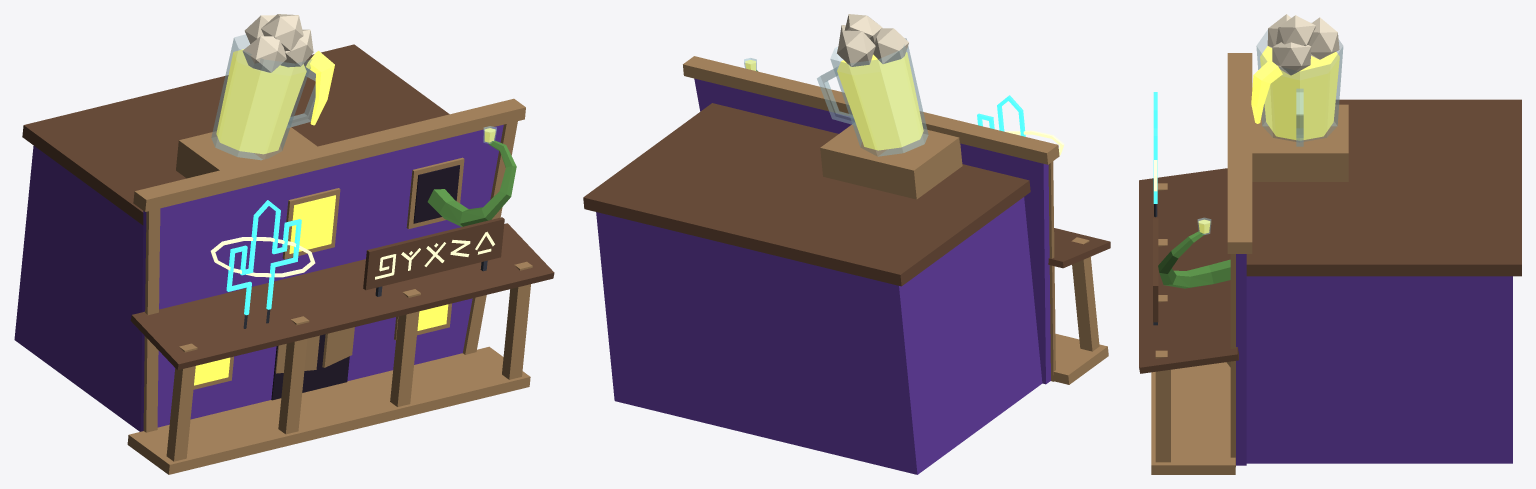
Rendered from Bldg_Saloon.fbx.
3 renders of one model, left to right at view 1: azimuth 30°, elevation 25°; view 2: azimuth 150°, elevation 25°; view 3: azimuth 270°, elevation 25°, orthographic. The views are drawn at different scales.
Visible parts, largest first — view 1: Bldg_Saloon_Body, Bldg_Saloon_Mug, Bldg_Saloon_Sign, Bldg_Saloon_Liquid, Bldg_Saloon_Door_R, Bldg_Saloon_Door_L; view 2: Bldg_Saloon_Body, Bldg_Saloon_Mug, Bldg_Saloon_Liquid, Bldg_Saloon_Sign; view 3: Bldg_Saloon_Body, Bldg_Saloon_Mug, Bldg_Saloon_Liquid, Bldg_Saloon_Sign.
Part boxes in pixels (left/top/right/bottom): Bldg_Saloon_Body: left=14, top=44, right=554, bottom=474; Bldg_Saloon_Mug: left=211, top=14, right=315, bottom=160; Bldg_Saloon_Sign: left=210, top=200, right=504, bottom=328; Bldg_Saloon_Liquid: left=216, top=49, right=334, bottom=154; Bldg_Saloon_Door_R: left=322, top=327, right=354, bottom=367; Bldg_Saloon_Door_L: left=275, top=335, right=319, bottom=373; Bldg_Saloon_Body: left=583, top=56, right=1110, bottom=474; Bldg_Saloon_Mug: left=817, top=14, right=928, bottom=156; Bldg_Saloon_Liquid: left=837, top=52, right=923, bottom=150; Bldg_Saloon_Sign: left=977, top=95, right=1064, bottom=155; Bldg_Saloon_Body: left=1139, top=53, right=1521, bottom=474; Bldg_Saloon_Mug: left=1256, top=14, right=1343, bottom=146; Bldg_Saloon_Liquid: left=1251, top=46, right=1339, bottom=140; Bldg_Saloon_Sign: left=1153, top=92, right=1158, bottom=325.
Size of the model in its own units: 10.5 by 9.22 by 8.62.
